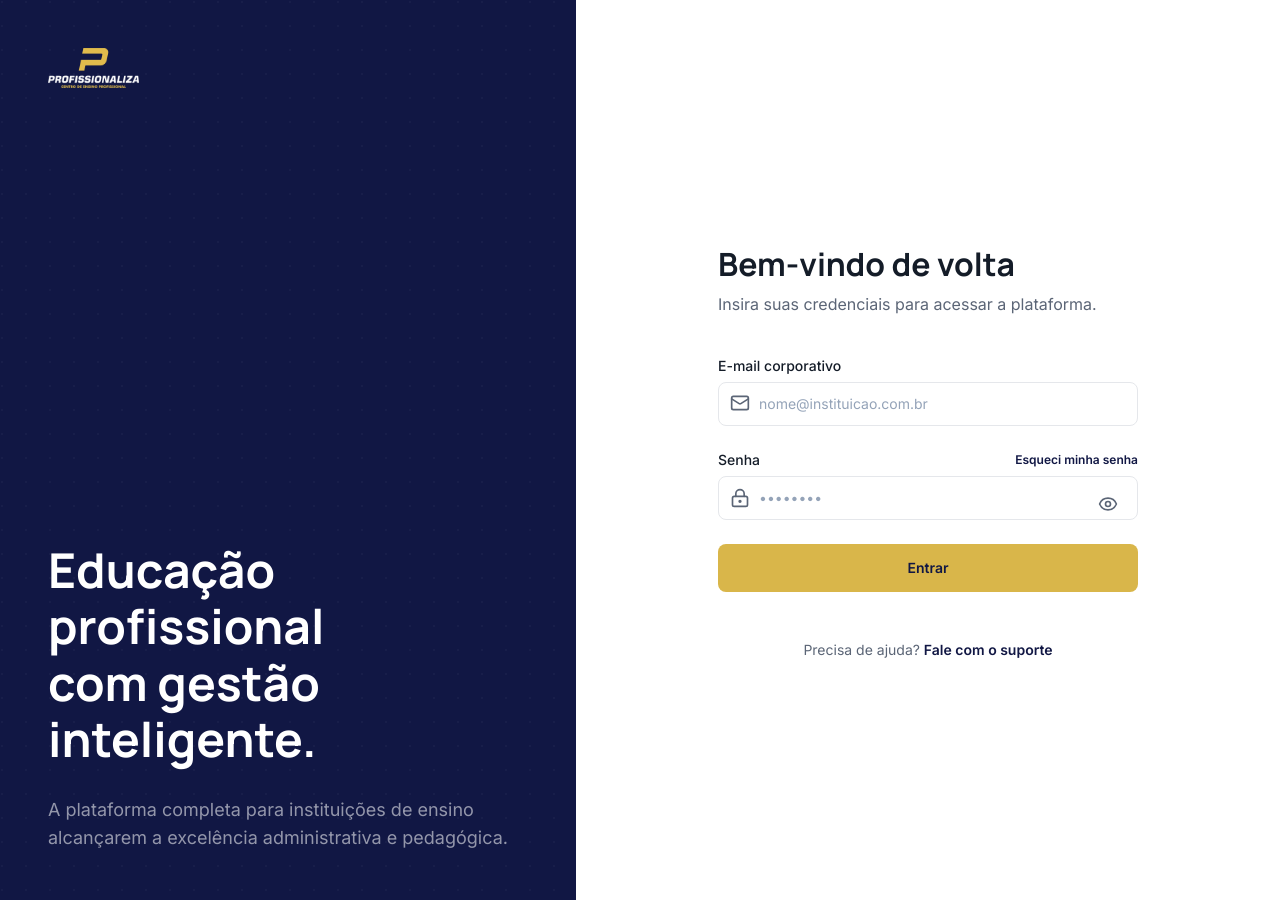
Test: LoginPage › oferece alvo de 44px, alterna a senha e atualiza o accessible name
Click the button named "Mostrar senha": (1108, 504) [1086,482,1130,526]
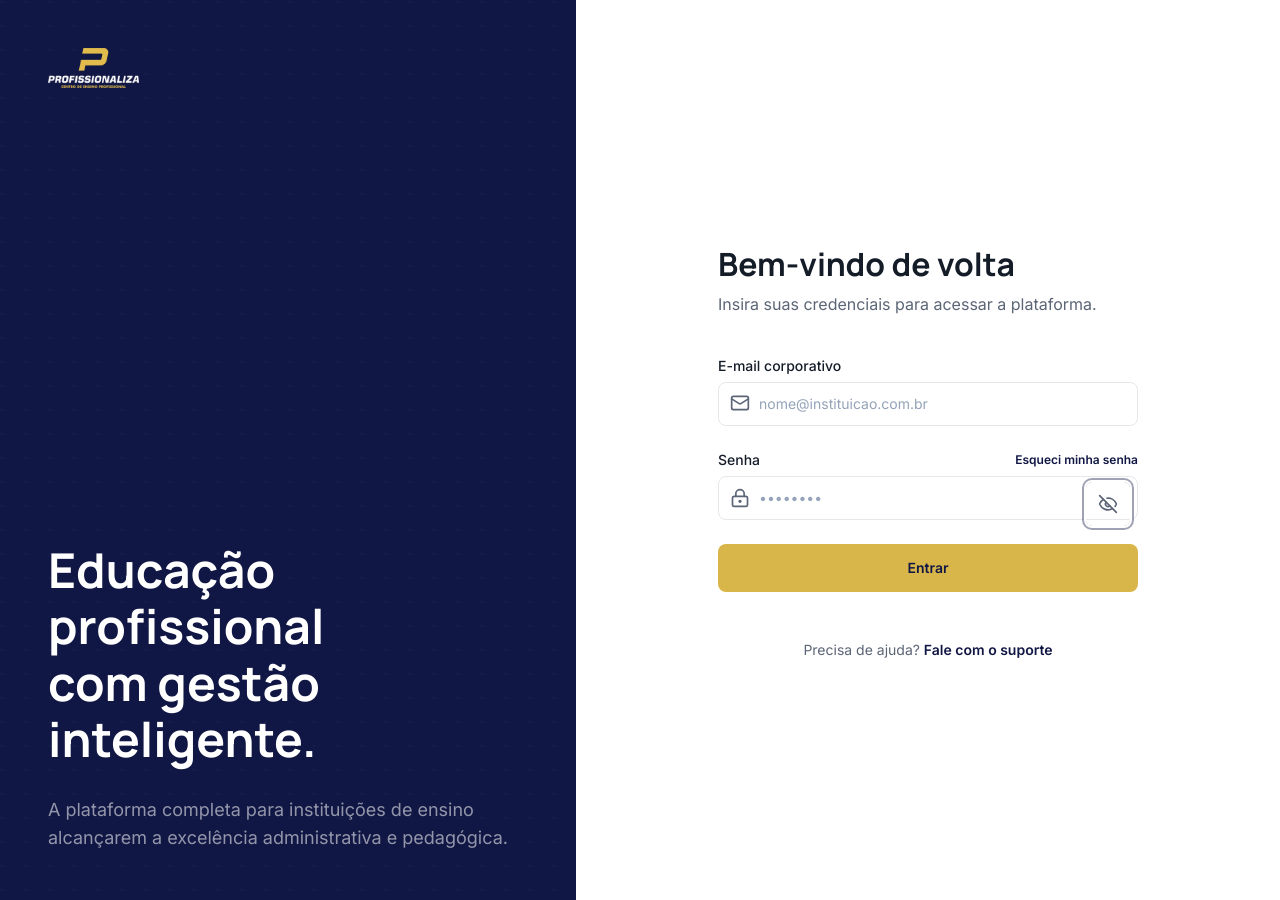
Now the button named "Ocultar senha" is shown
Click the button named "Ocultar senha": (1108, 504) [1086,482,1130,526]
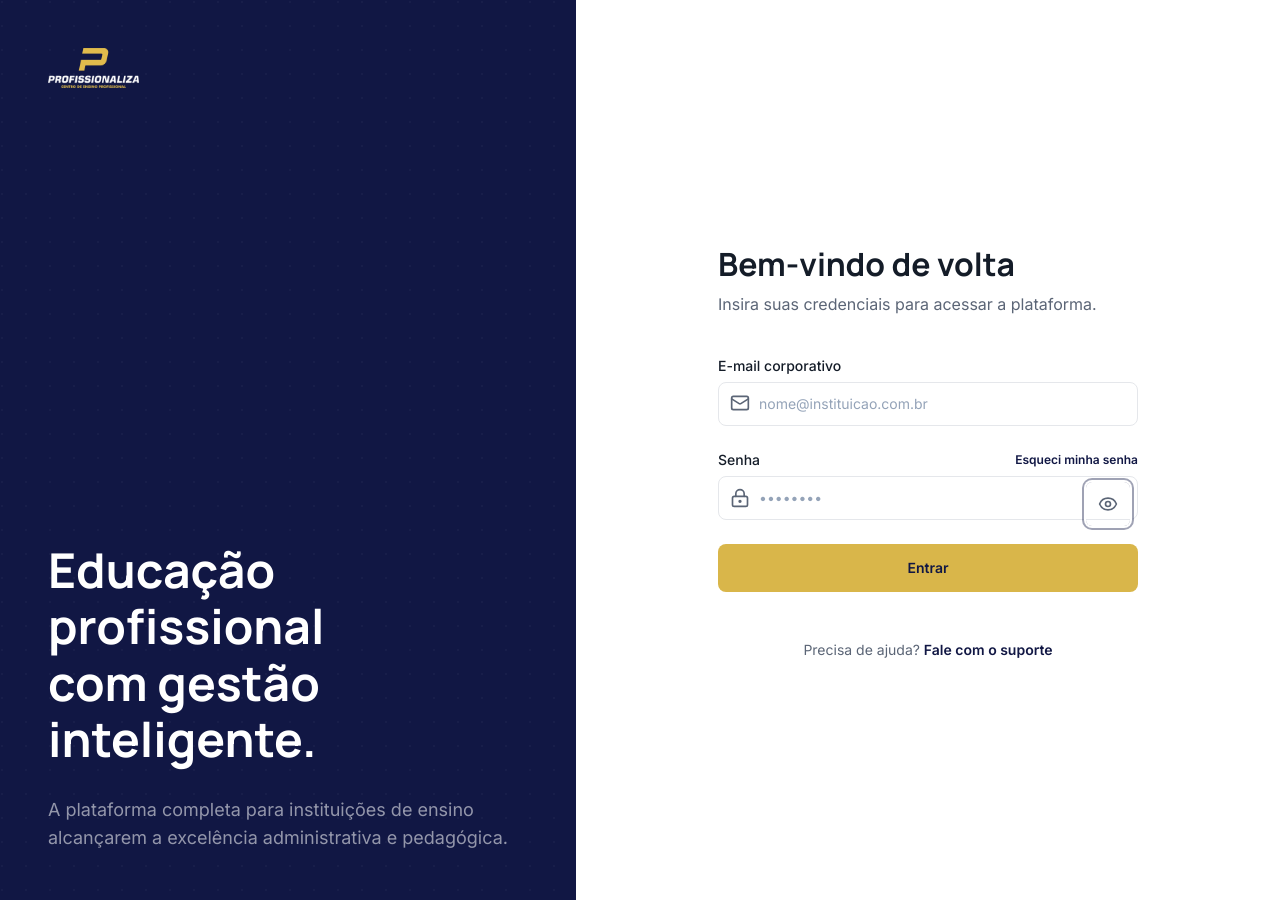
Now the button named "Mostrar senha" is shown, box [1086,482,1130,526]
